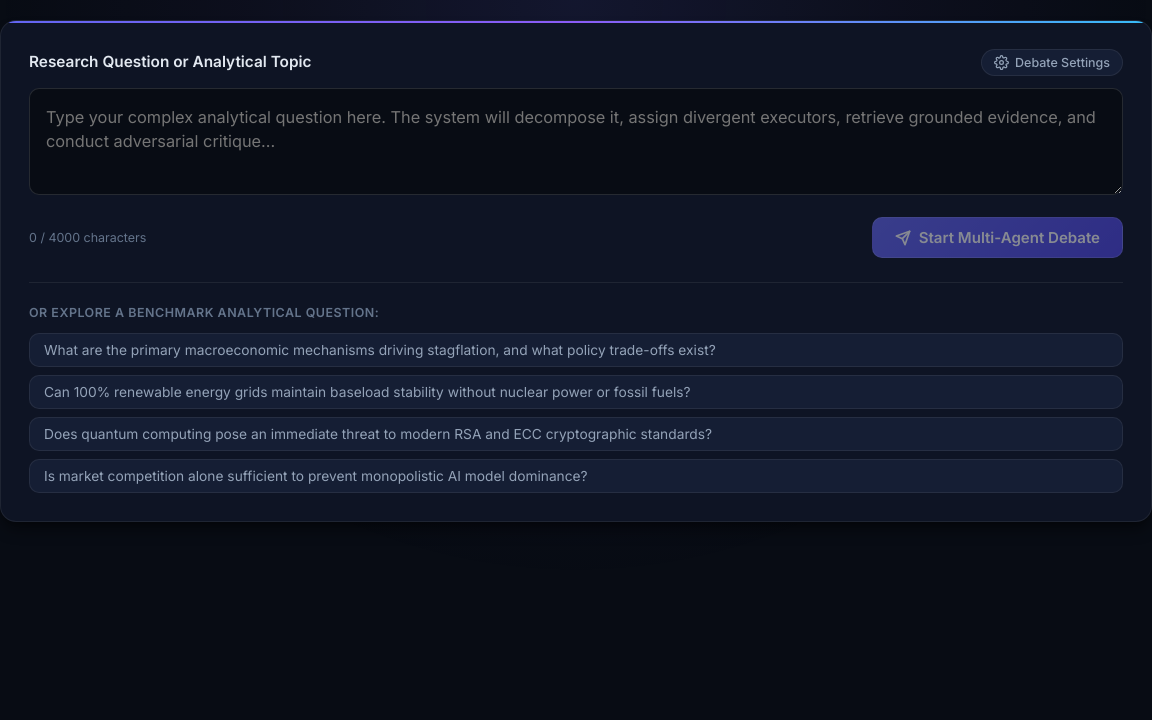
Test: QueryForm Component › disables submit button and shows warning if input is under 3 characters
This screenshot has width=1152, height=720.
Replace the text in the text box with placeholder "Type your complex analytical question here" with "hi" at (576, 142), box [29,88,1123,195]
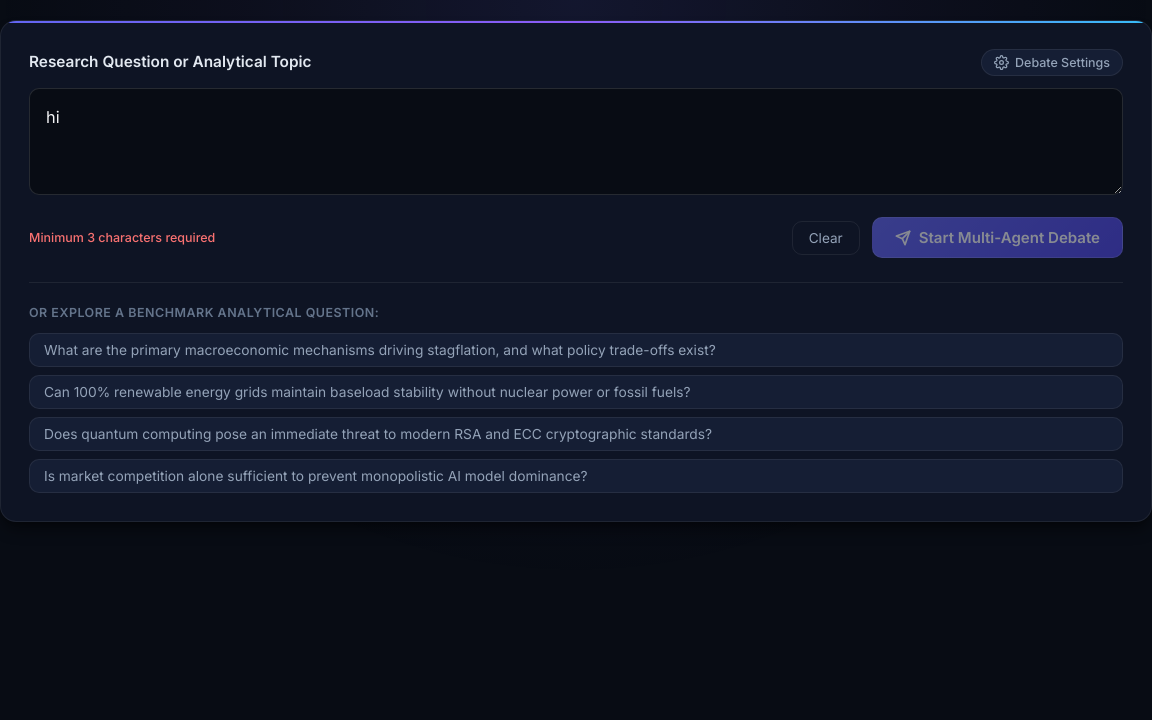
Check: the button "Start Multi-Agent Debate" is disabled, box [872,217,1123,258]
Check: the text "Minimum 3 characters required" is shown, box [29,230,215,244]
